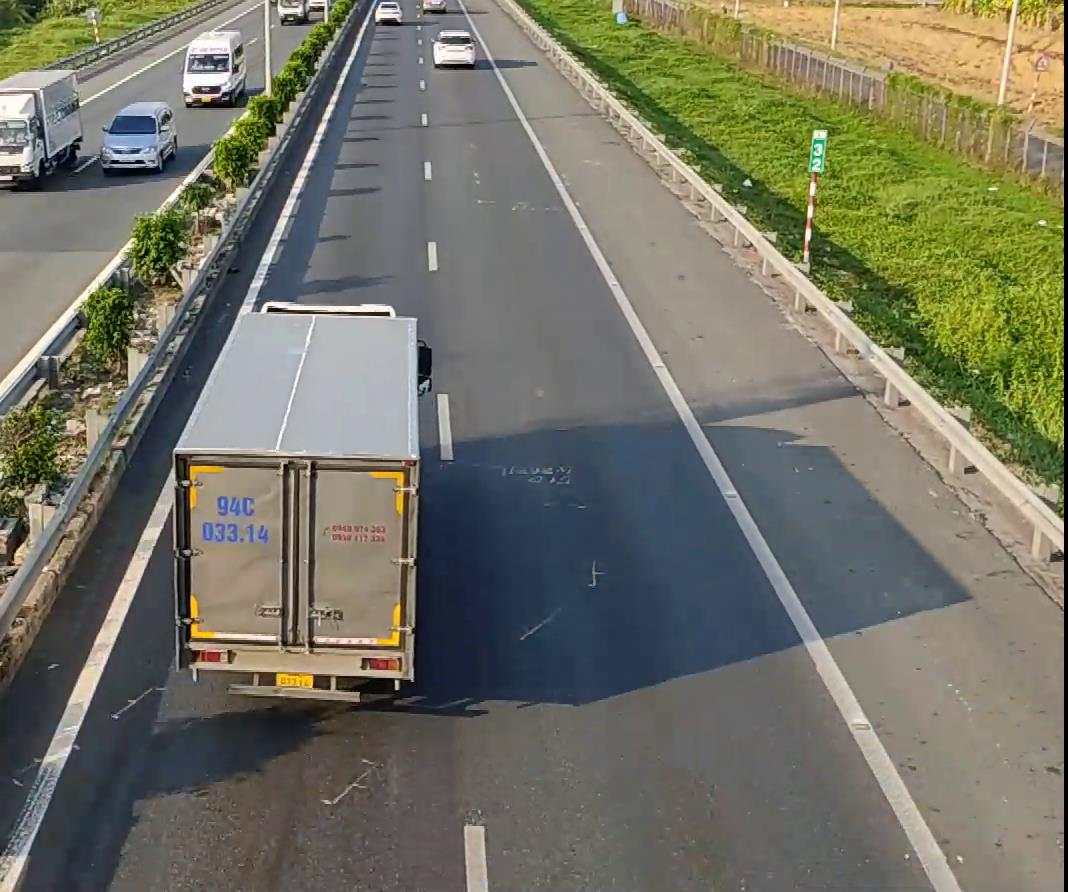car: (99, 99, 178, 173), (180, 27, 246, 106)
truck: (166, 296, 426, 709), (0, 67, 84, 188)
